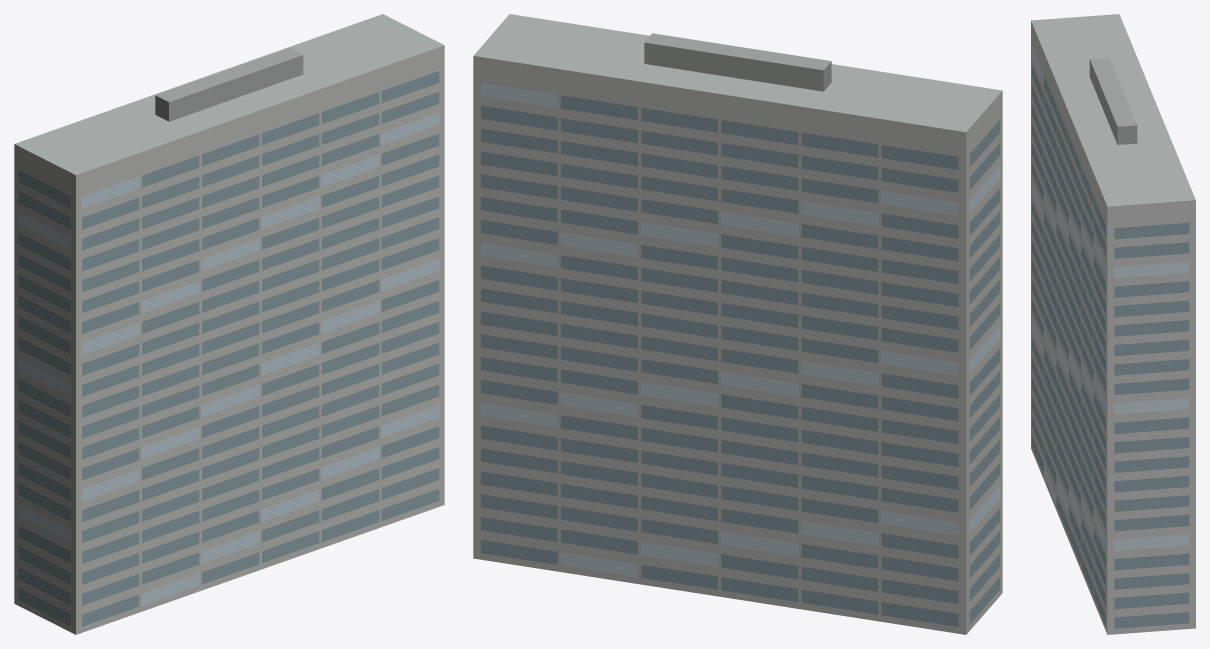
Rendered from apt-a15177101.glb.
3 views of the same model, side by side, from view 1: azimuth 30°, elevation 25°; view 2: azimuth 150°, elevation 25°; view 3: azimuth 270°, elevation 25° (orthographic). The views are drawn at different scales.
Parts seen in each view (by area): view 1: apt-a15177101; view 2: apt-a15177101; view 3: apt-a15177101.
Boxes of the visible parts, box(x1,y1,x2,y2) form: apt-a15177101: box(14, 14, 444, 634); apt-a15177101: box(473, 14, 1002, 634); apt-a15177101: box(1031, 14, 1195, 634).
Size of the model in its own units: 54.63 by 59 by 19.75.
